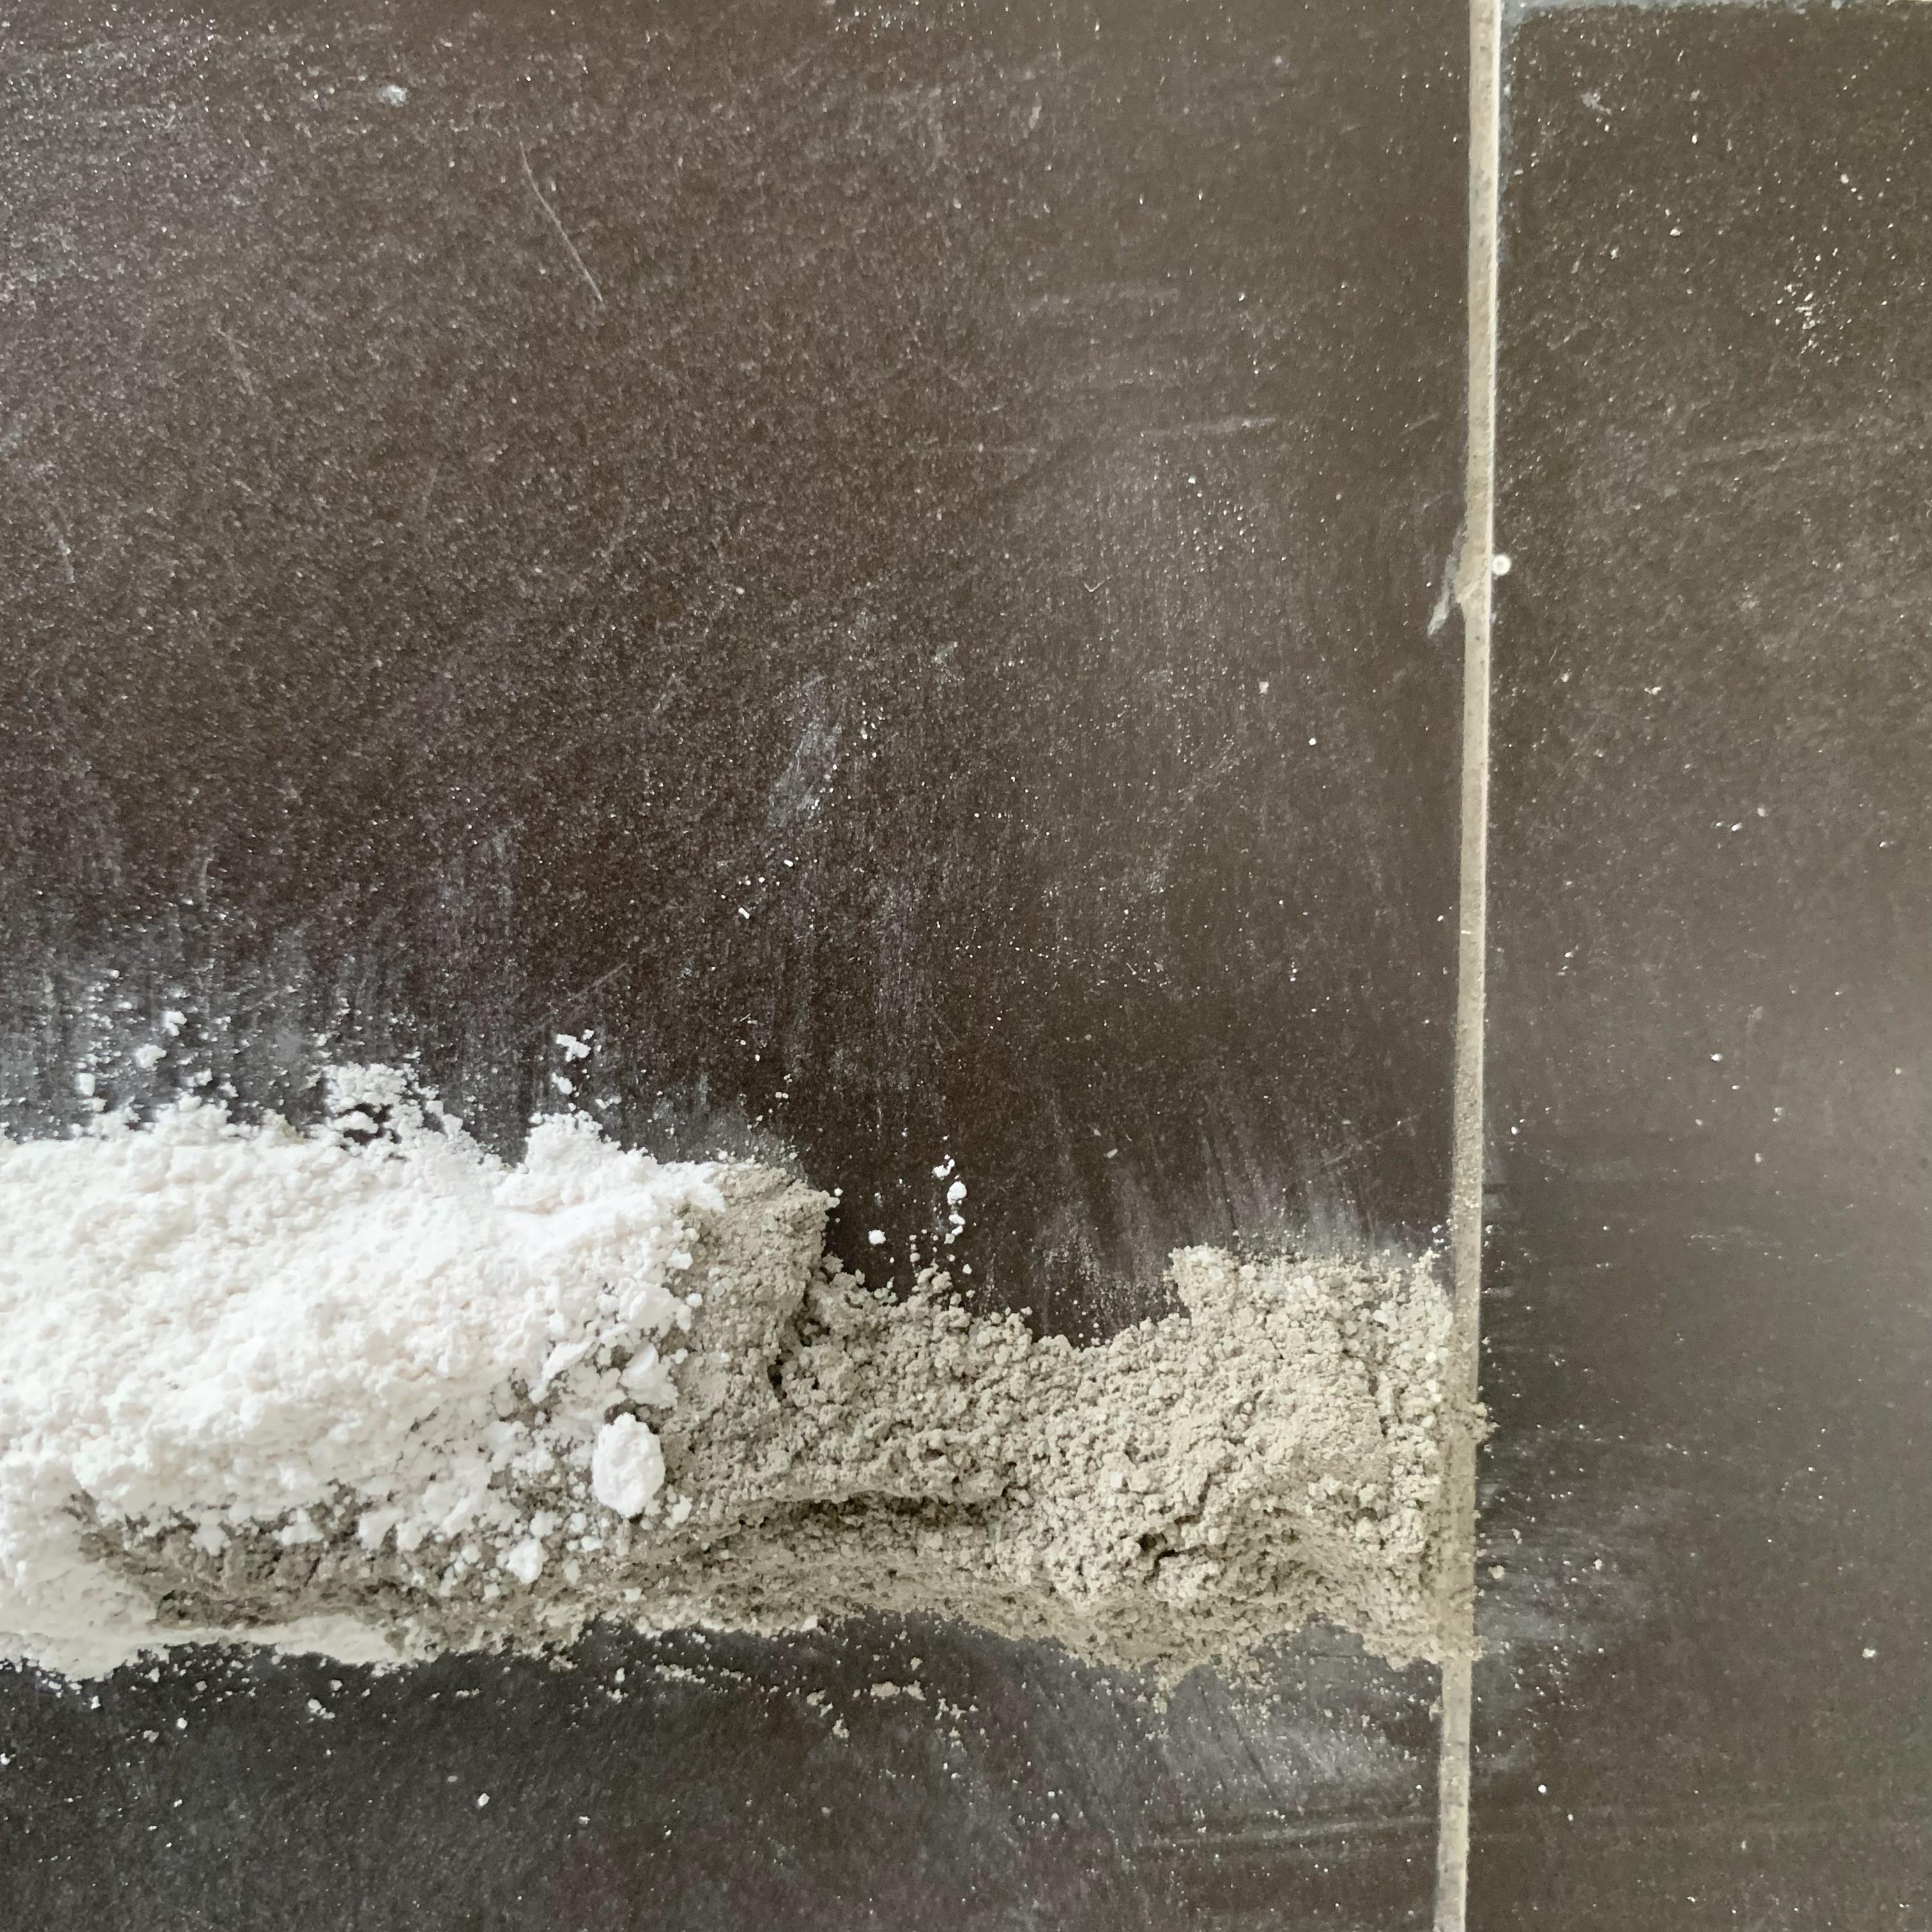ash pile: (2, 916, 1624, 1838)
